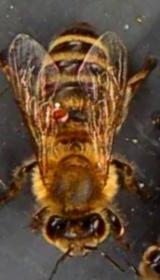varroa_mite: (42, 97, 74, 125)
